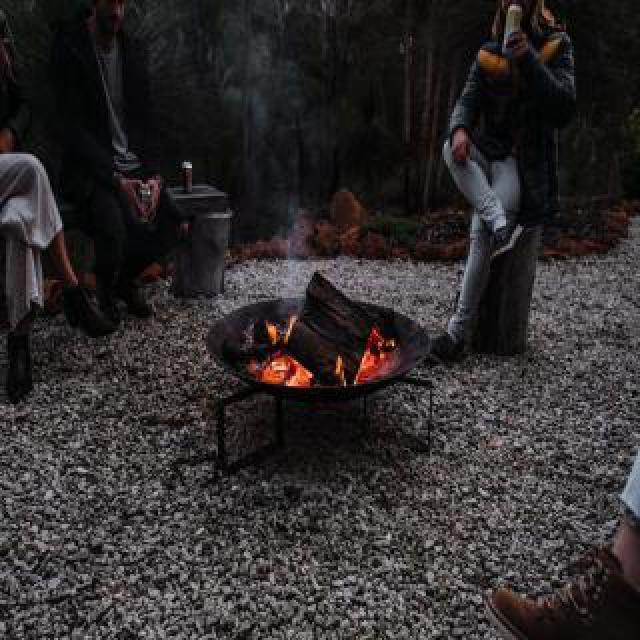Fire: (266, 296, 316, 392)
Smoke: (242, 28, 326, 292)
